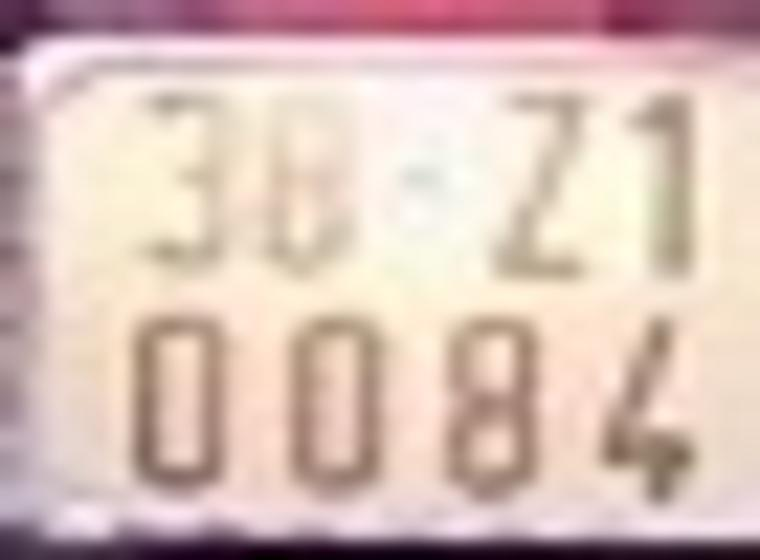0: (282, 302, 393, 498), (125, 302, 229, 498)
1: (621, 84, 712, 281)
3: (135, 81, 233, 270)
4: (599, 310, 696, 508)
8: (445, 301, 545, 506), (255, 84, 361, 276)
Z: (483, 83, 596, 284)
